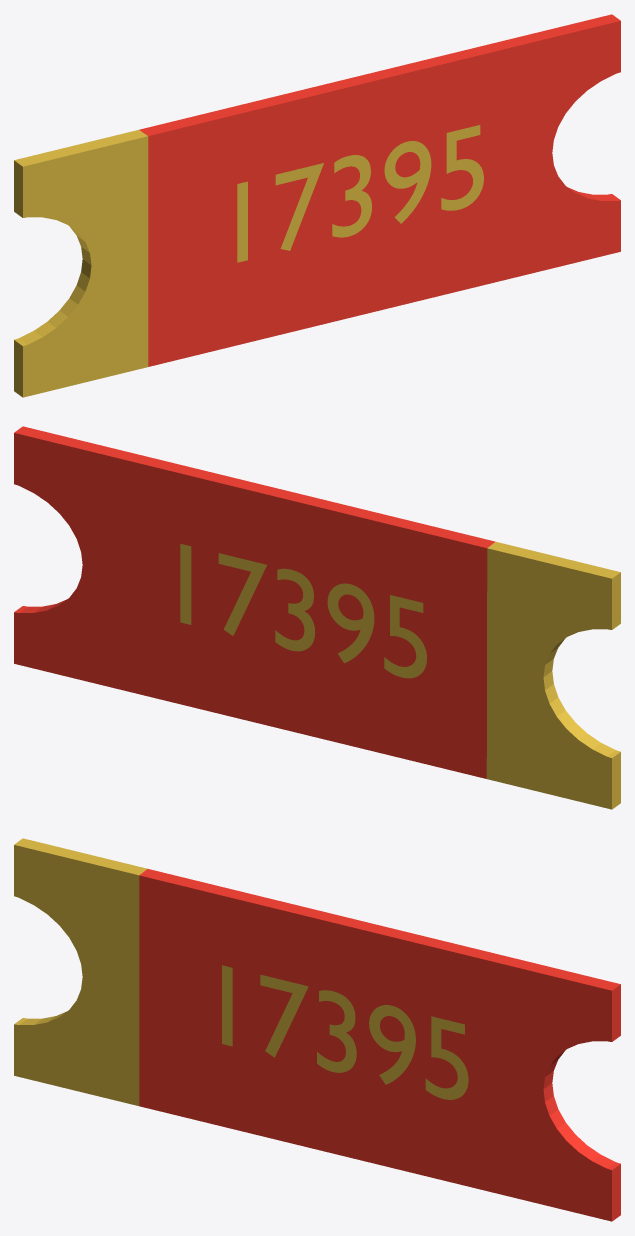
The model's file is foodcoupon10.glb.
3 views of the same model, one above another, from view 1: azimuth 30°, elevation 25°; view 2: azimuth 150°, elevation 25°; view 3: azimuth 330°, elevation 25° (orthographic).
Visible parts, largest first — view 1: Text.019; view 2: Text.019; view 3: Text.019.
Part boxes in pixels (<box>): Text.019: <box>14,14,620,397</box>; Text.019: <box>14,426,620,809</box>; Text.019: <box>14,838,620,1221</box>.
Bounding box in the file's own units: 5.42 × 2 × 0.2516.
